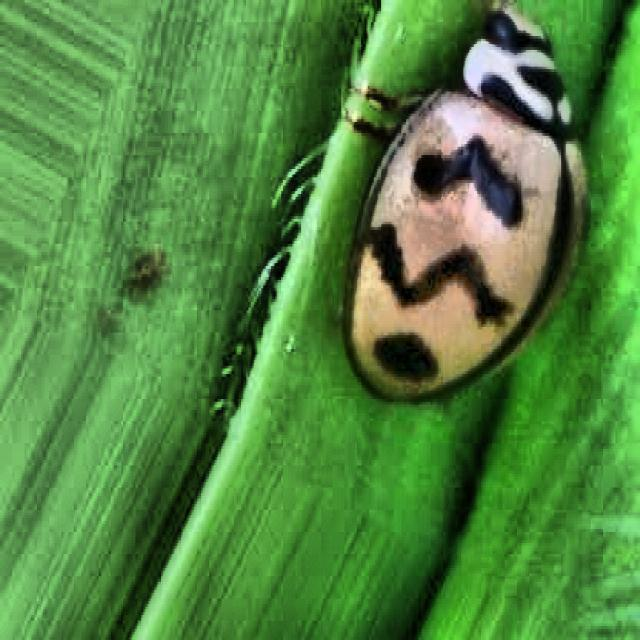Asian-Lady-beetle: (317, 0, 609, 446)
